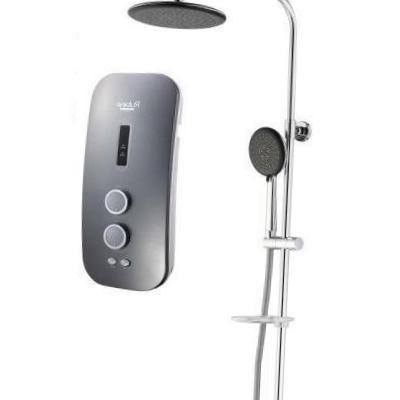Ducha: (72, 0, 340, 399)
